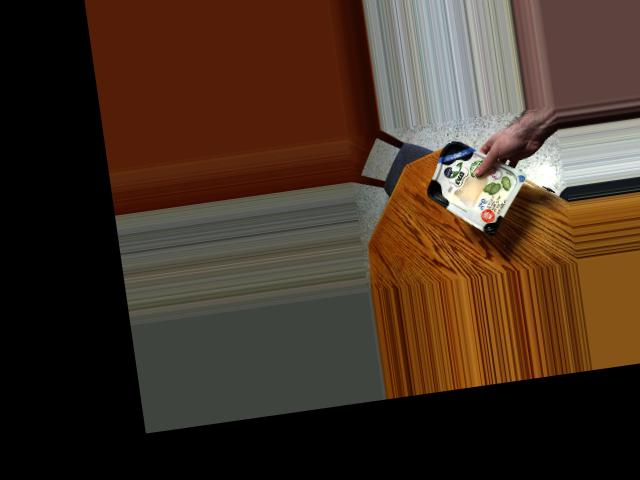cheese: (420, 132, 516, 235)
